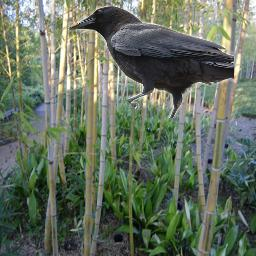Crow: (68, 6, 234, 118)
